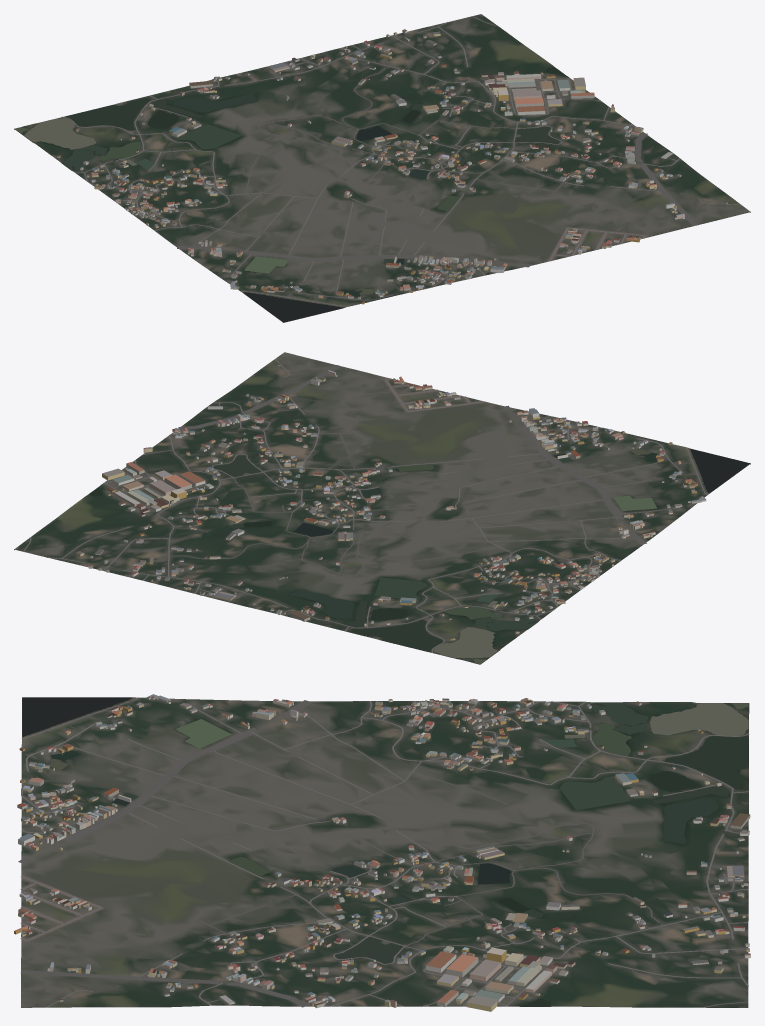
3 renders of one model, top to bottom at view 1: azimuth 30°, elevation 25°; view 2: azimuth 150°, elevation 25°; view 3: azimuth 270°, elevation 25°, orthographic. The views are drawn at different scales.
Visible parts, largest first — view 1: ground, buildings, water, roads; view 2: ground, buildings, water, roads; view 3: ground, buildings, water, roads.
Part boxes in pixels (x1=…): ground: x1=14, y1=14, x2=750, y2=322; buildings: x1=57, y1=29, x2=727, y2=304; water: x1=15, y1=67, x2=564, y2=322; roads: x1=62, y1=16, x2=741, y2=306; ground: x1=14, y1=352, x2=750, y2=664; buildings: x1=76, y1=363, x2=706, y2=640; water: x1=89, y1=448, x2=749, y2=664; roads: x1=23, y1=359, x2=707, y2=652; ground: x1=21, y1=697, x2=749, y2=1007; buildings: x1=14, y1=694, x2=750, y2=1011; water: x1=22, y1=697, x2=748, y2=1006; roads: x1=18, y1=697, x2=749, y2=1007.
Size of the model in its own units: 1436 by 27.21 by 1421.
